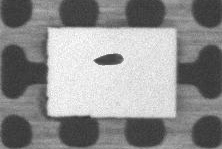DIE_INK: (92, 53, 126, 66)
